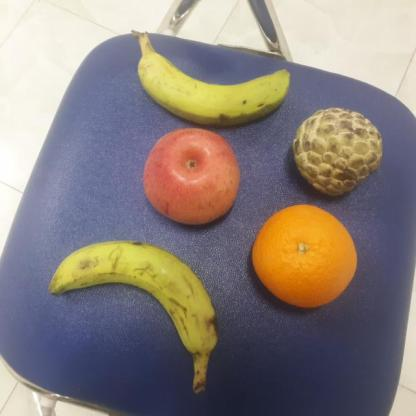annona: (289, 105, 386, 196)
apple: (140, 126, 242, 226)
banana: (47, 236, 219, 368), (135, 30, 291, 126)
orange: (250, 202, 360, 308)
